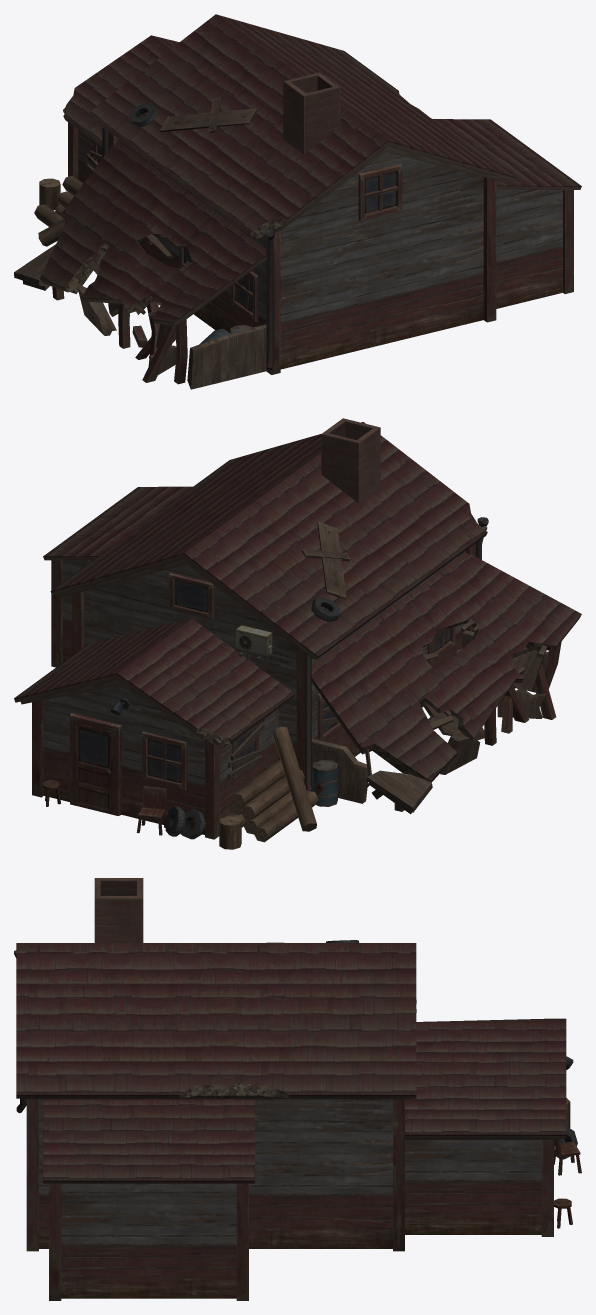
The model's file is Stage-muwu-muwu.FBX.
3 renders of one model, top to bottom at view 1: azimuth 30°, elevation 25°; view 2: azimuth 150°, elevation 25°; view 3: azimuth 270°, elevation 25°, orthographic. The views are drawn at different scales.
Parts seen in each view (by area): view 1: Object003; view 2: Object003; view 3: Object003.
Part boxes in pixels (bbox=[...]): Object003: bbox=[14, 14, 581, 389]; Object003: bbox=[14, 418, 581, 849]; Object003: bbox=[14, 878, 581, 1300].
Size of the model in its own units: 11.49 by 6.46 by 11.62.
Materials: 1 (1 with a texture image).
